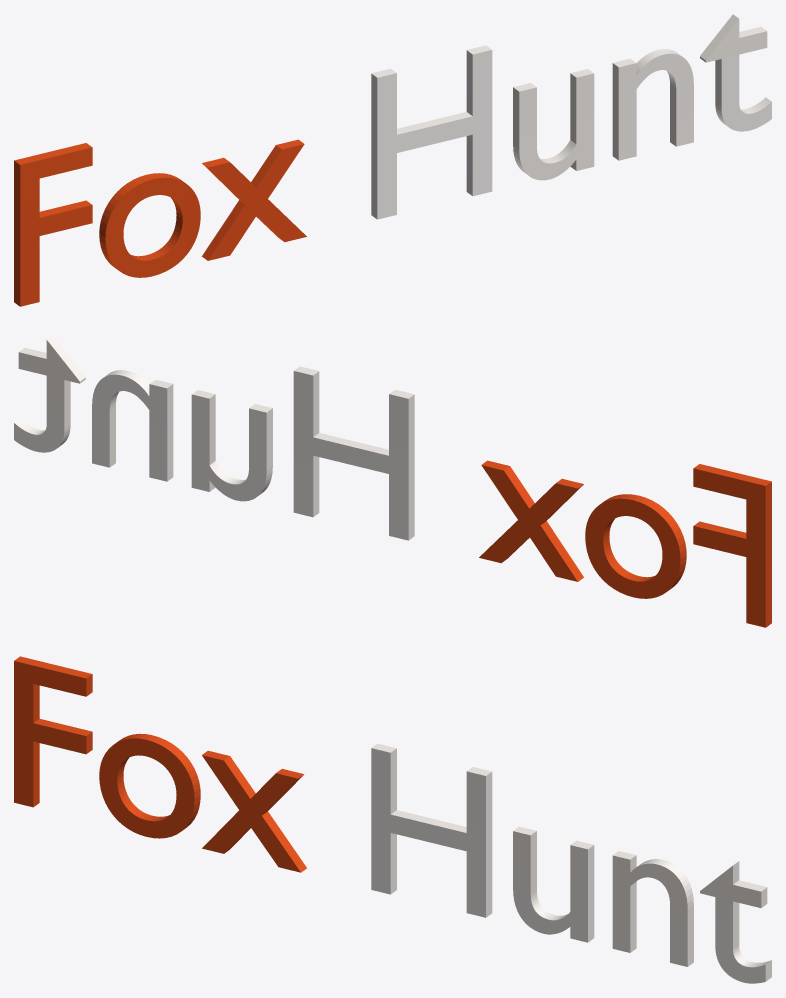
Rendered from Title.glb.
3 views of the same model, one above another, from view 1: azimuth 30°, elevation 25°; view 2: azimuth 150°, elevation 25°; view 3: azimuth 330°, elevation 25° (orthographic).
Visible parts, largest first — view 1: Text; view 2: Text; view 3: Text.
Part boxes in pixels (x1=…): Text: x1=14, y1=14, x2=771, y2=306; Text: x1=14, y1=335, x2=771, y2=627; Text: x1=14, y1=656, x2=771, y2=983.
Size of the model in its own units: 3.05 by 0.5576 by 0.0436.
1 material, 1 textured.
